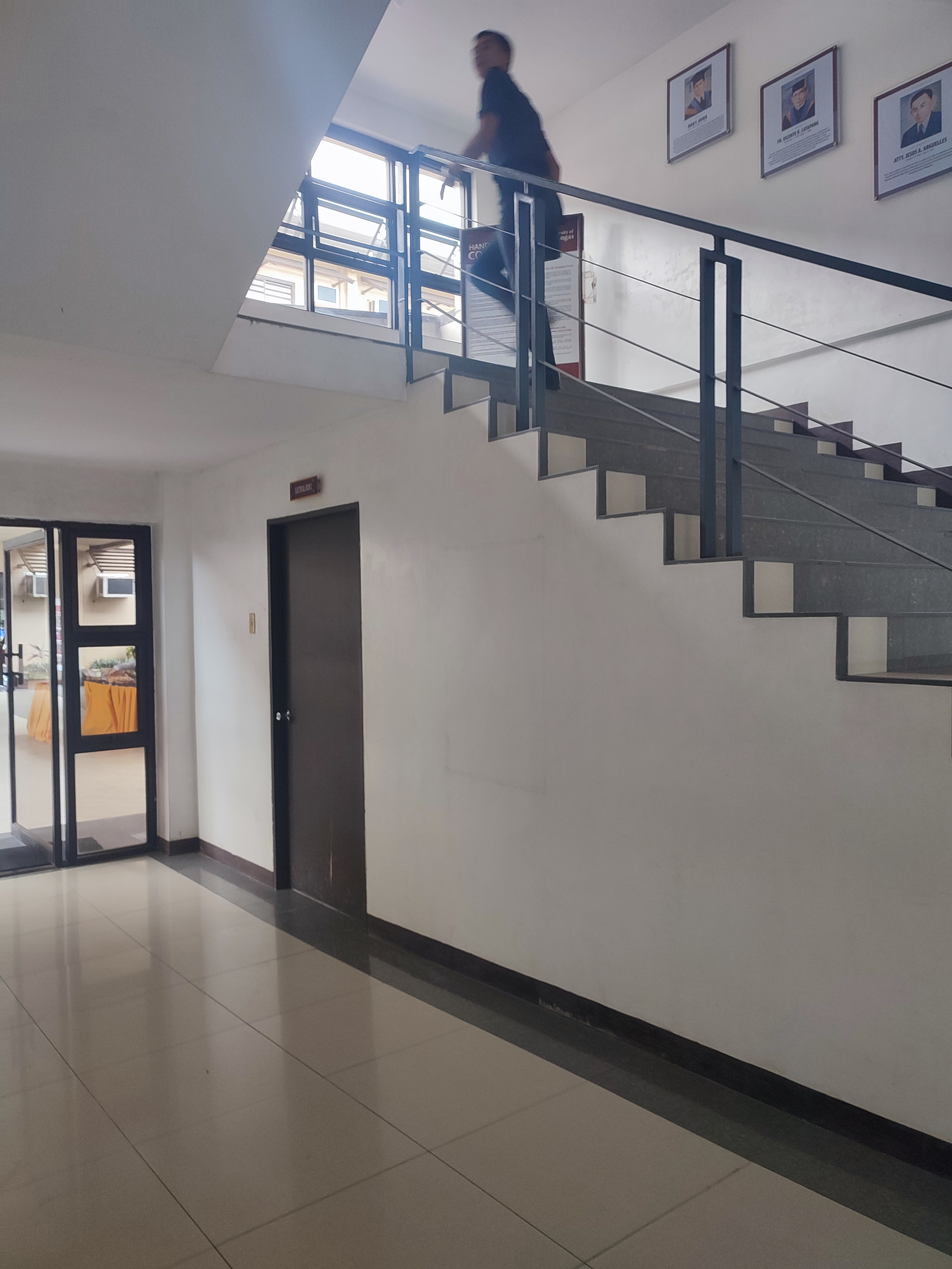Staircase: (407, 350, 952, 687)
